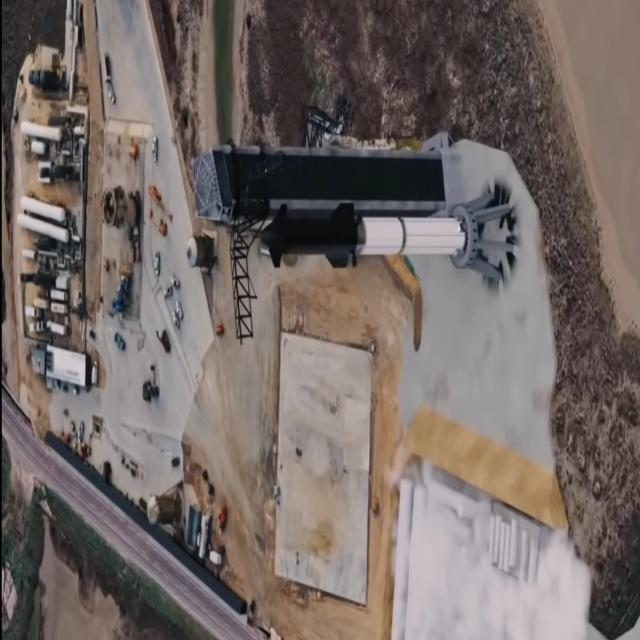Missile: (252, 200, 469, 270)
